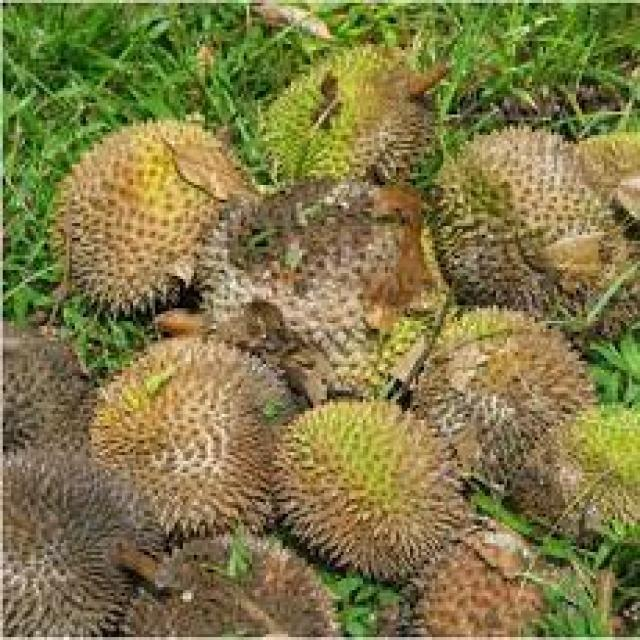defective: (254, 398, 479, 583), (202, 191, 427, 354)
